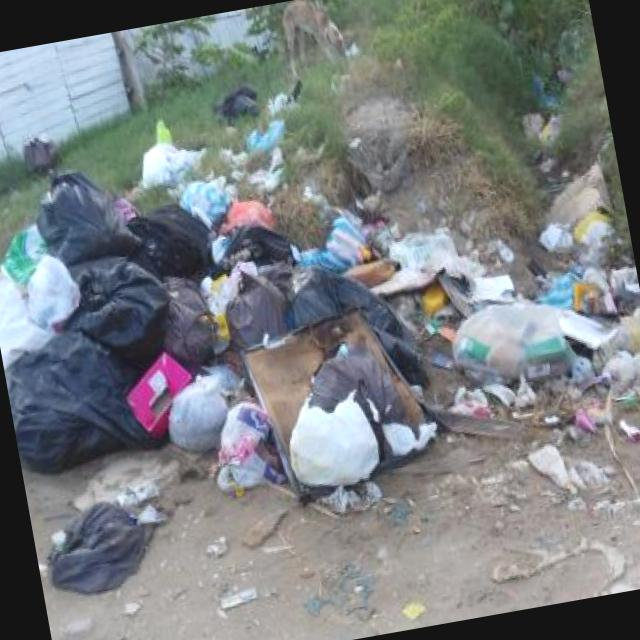garbage: (0, 8, 640, 601)
